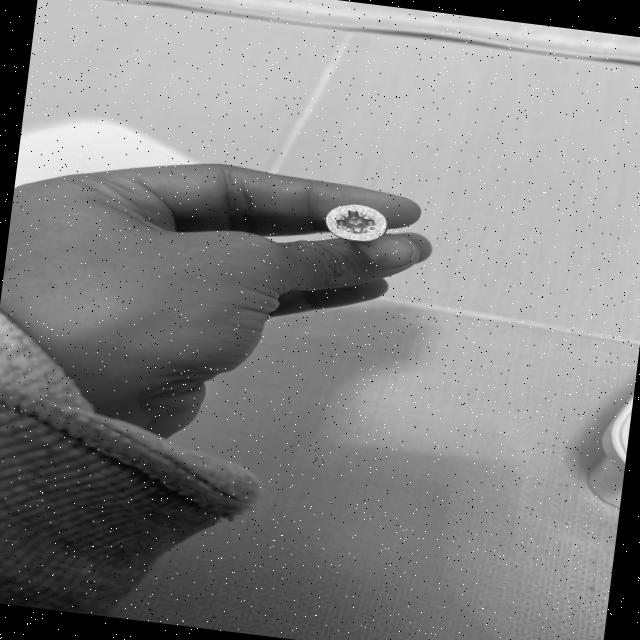Pozidriv: (316, 200, 402, 246)
